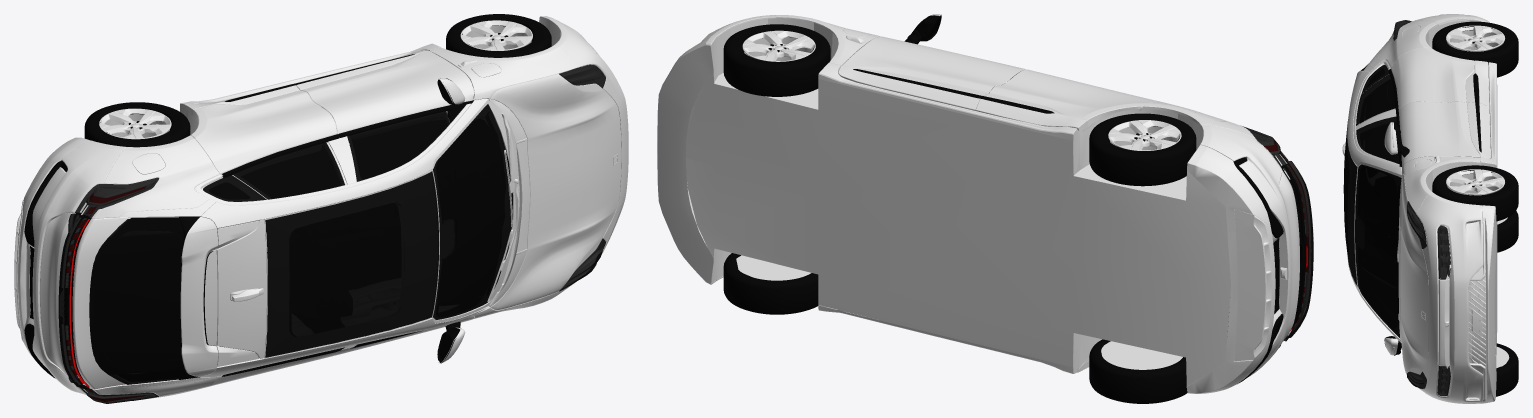
Rendered from ziche213.gltf.
The picture shows the model from 3 angles, left to right: view 1: azimuth 30°, elevation 25°; view 2: azimuth 150°, elevation 25°; view 3: azimuth 270°, elevation 25°; orthographic projection. The views are drawn at different scales.
Parts seen in each view (by area): view 1: Wheel_RF_Tire_01.005_Wheel_RR_Tire_old.022, Door_RF_Ext_Glass.001_网格.085, Door_LF_Ext_Trim_Adhesive_strip.002_网格.089, Car_Body.024_网格.136, Trunk_door_网格.081; view 2: Wheel_RF_Tire_01.005_Wheel_RR_Tire_old.022, Door_LF_Ext_Trim_Adhesive_strip.002_网格.089, Trunk_door_网格.081; view 3: Wheel_RF_Tire_01.005_Wheel_RR_Tire_old.022, Door_RF_Ext_Glass.001_网格.085, Door_LF_Ext_Trim_Adhesive_strip.002_网格.089, Car_Body.024_网格.136.
Boxes of the visible parts, bbox=[...] form: Wheel_RF_Tire_01.005_Wheel_RR_Tire_old.022: bbox=[14, 16, 628, 399]; Door_RF_Ext_Glass.001_网格.085: bbox=[89, 104, 512, 384]; Door_LF_Ext_Trim_Adhesive_strip.002_网格.089: bbox=[24, 14, 551, 386]; Car_Body.024_网格.136: bbox=[75, 64, 605, 403]; Trunk_door_网格.081: bbox=[58, 213, 89, 389]; Wheel_RF_Tire_01.005_Wheel_RR_Tire_old.022: bbox=[657, 14, 1313, 393]; Door_LF_Ext_Trim_Adhesive_strip.002_网格.089: bbox=[723, 15, 1306, 403]; Trunk_door_网格.081: bbox=[1283, 160, 1313, 341]; Wheel_RF_Tire_01.005_Wheel_RR_Tire_old.022: bbox=[1342, 14, 1509, 403]; Door_RF_Ext_Glass.001_网格.085: bbox=[1343, 65, 1401, 337]; Door_LF_Ext_Trim_Adhesive_strip.002_网格.089: bbox=[1357, 21, 1518, 396]; Car_Body.024_网格.136: bbox=[1393, 20, 1450, 396].
Bounding box in the file's own units: 4.96 × 2.26 × 1.55.
Materials: 9 (7 with a texture image).
